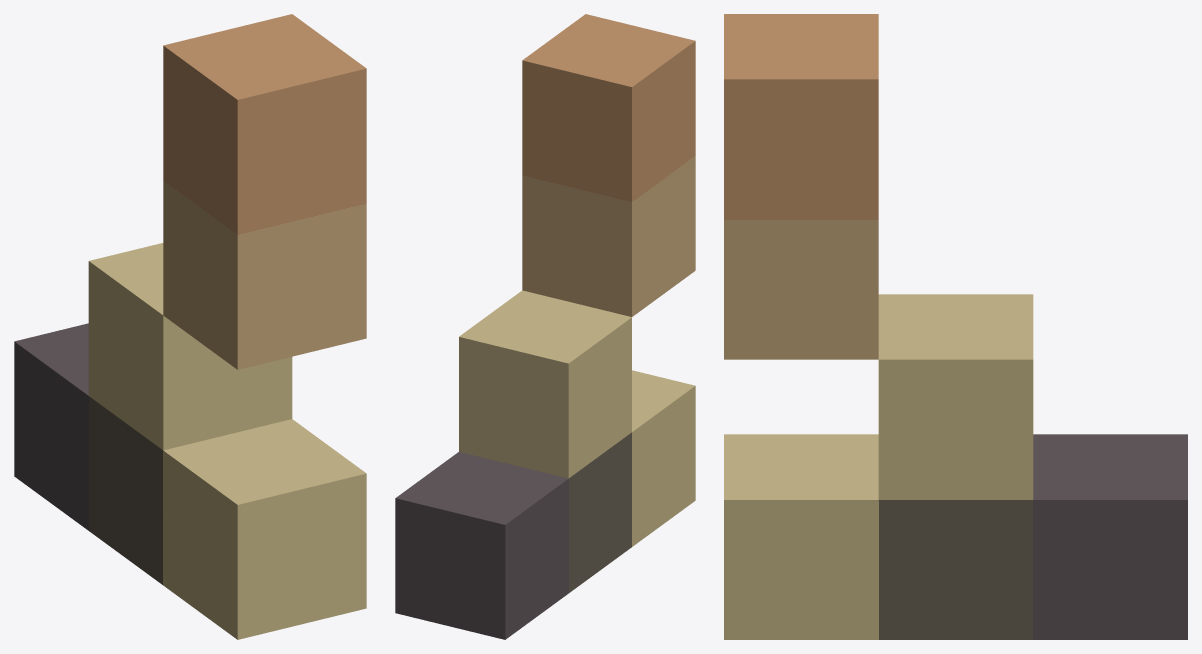
File: can_sniper-0.fbx
3 views of the same model, side by side, from view 1: azimuth 30°, elevation 25°; view 2: azimuth 150°, elevation 25°; view 3: azimuth 270°, elevation 25° (orthographic). The views are drawn at different scales.
Parts seen in each view (by area): view 1: can_sniper-0.001; view 2: can_sniper-0.001; view 3: can_sniper-0.001.
Part boxes in pixels (x1=…): can_sniper-0.001: x1=14, y1=14, x2=366, y2=639; can_sniper-0.001: x1=395, y1=14, x2=695, y2=639; can_sniper-0.001: x1=724, y1=14, x2=1187, y2=639.
Bounding box in the file's own units: 0.1 × 0.4 × 0.3.
Materials: 1 (1 with a texture image).
